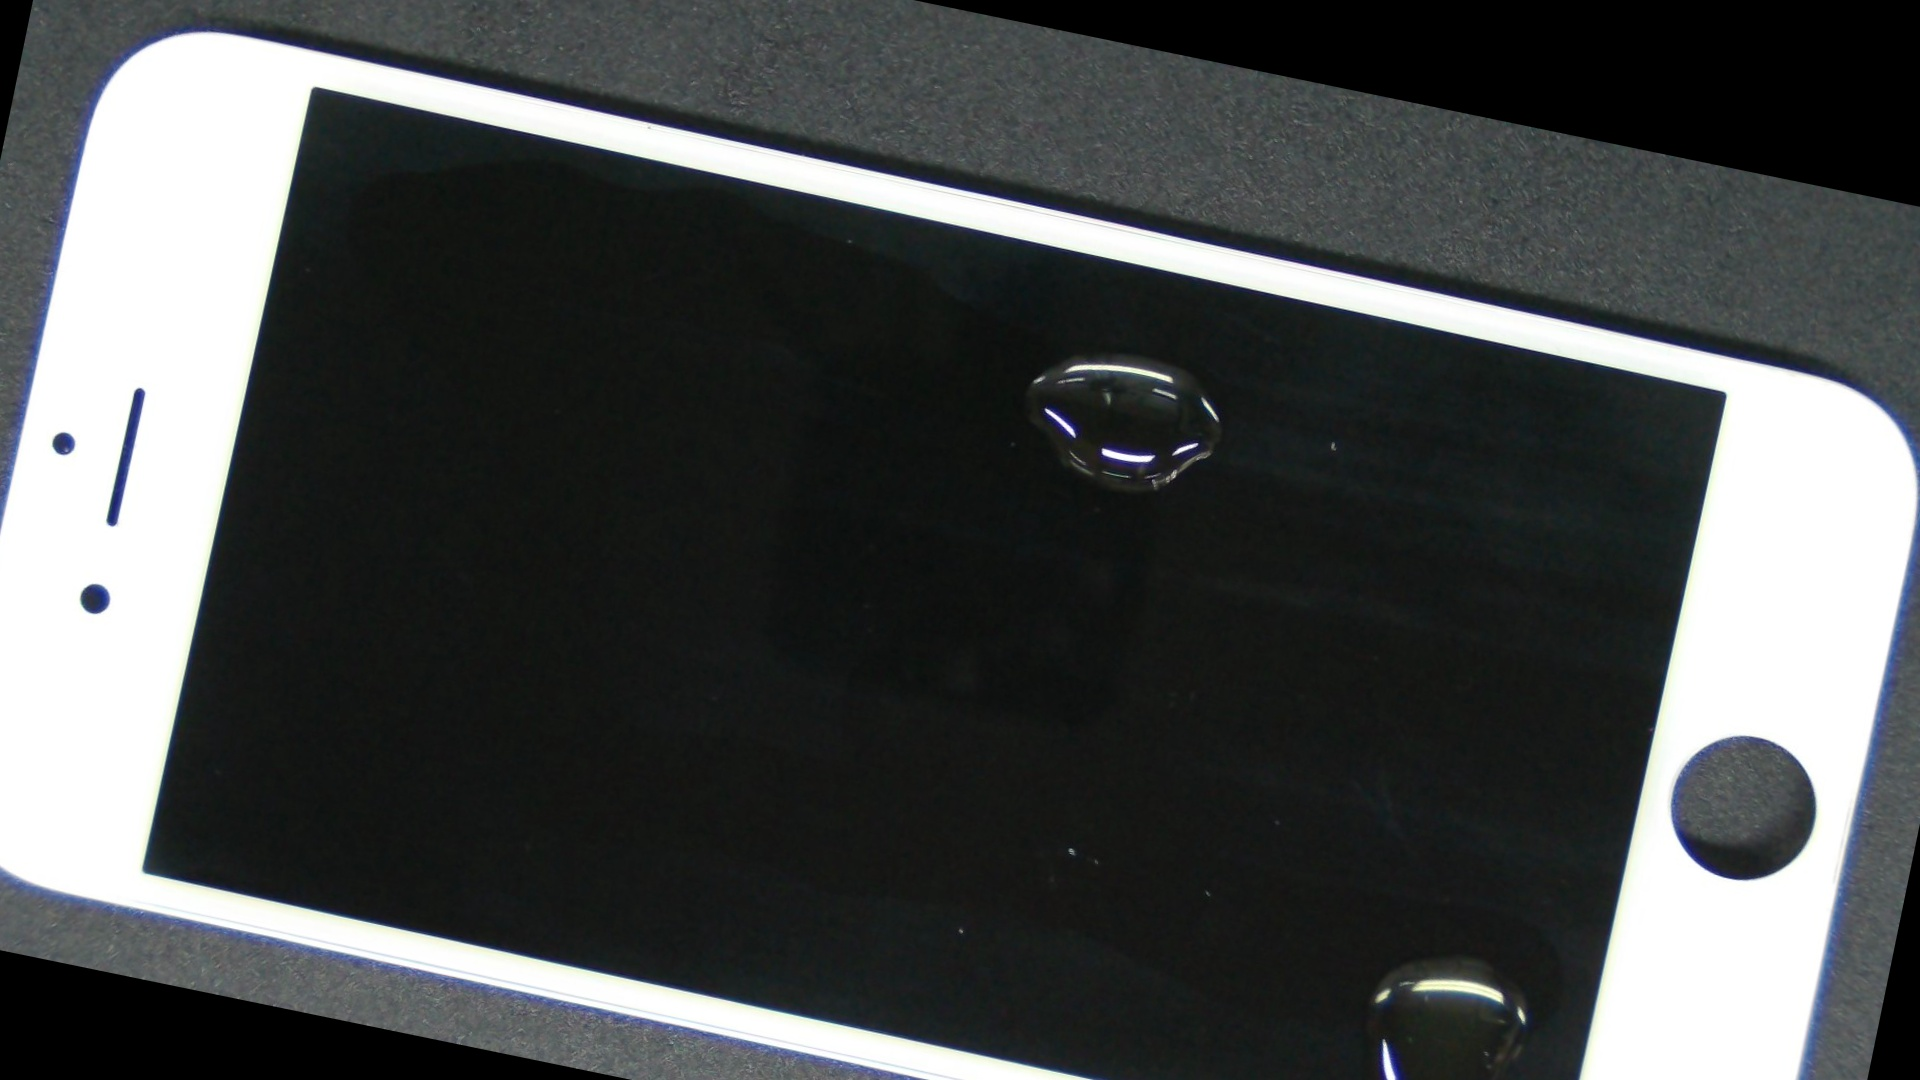oil: (629, 392, 1920, 1080), (537, 90, 1714, 616)
